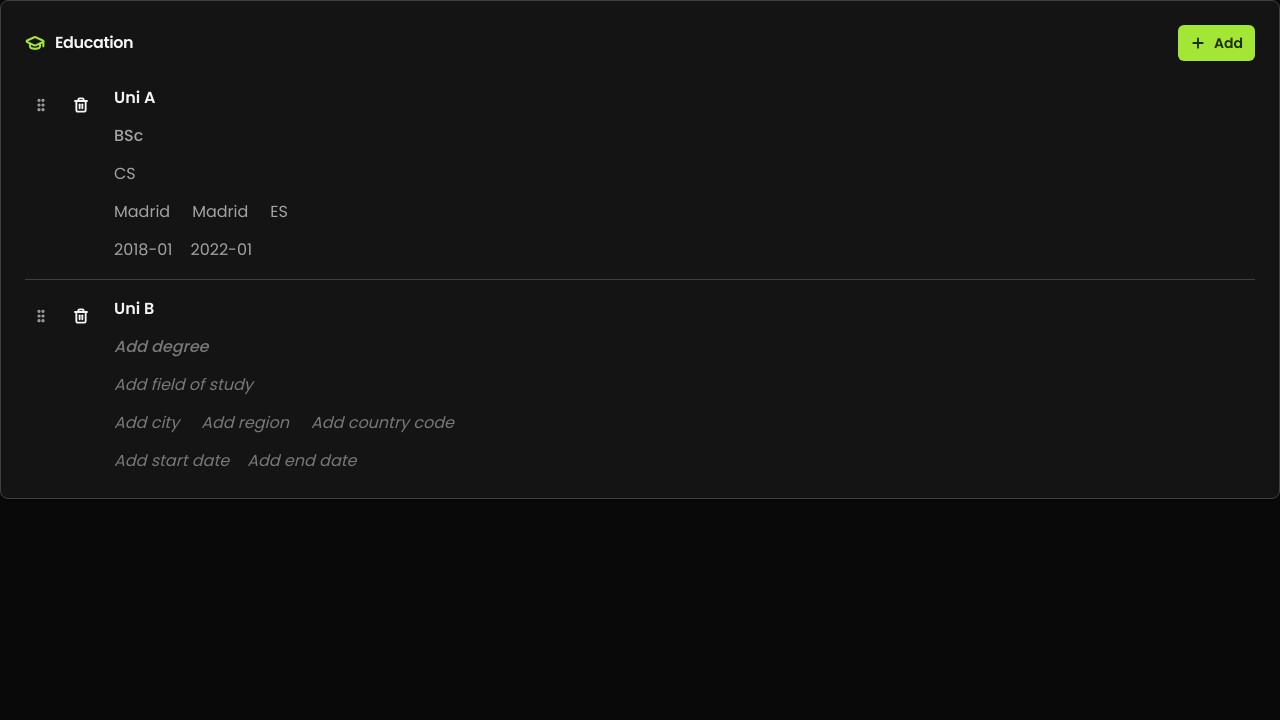
EducationSection › inline edit regression: institution updates immutably
Double-click the button with aria-label "Edit Institution" at [135, 98], box [114, 86, 156, 109]
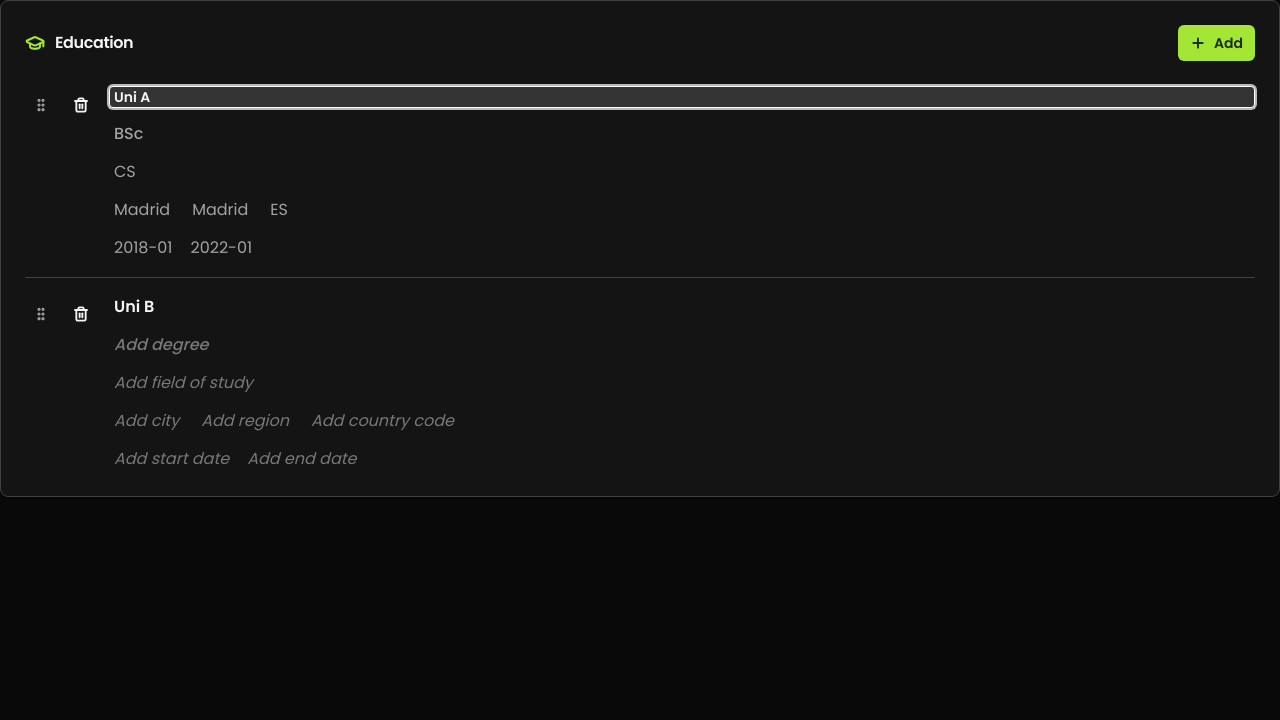
Replace the text in the field named "Institution" with "Updated Uni" at [682, 97], box [109, 86, 1255, 108]
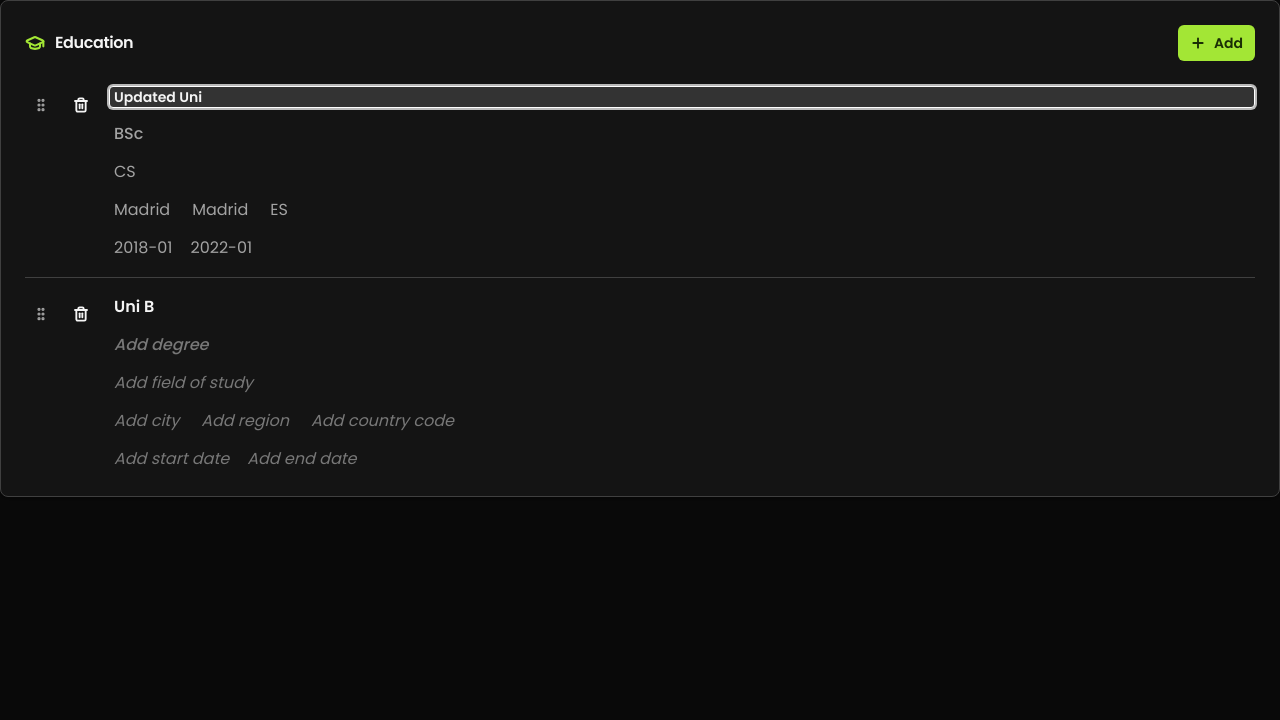
Press Enter
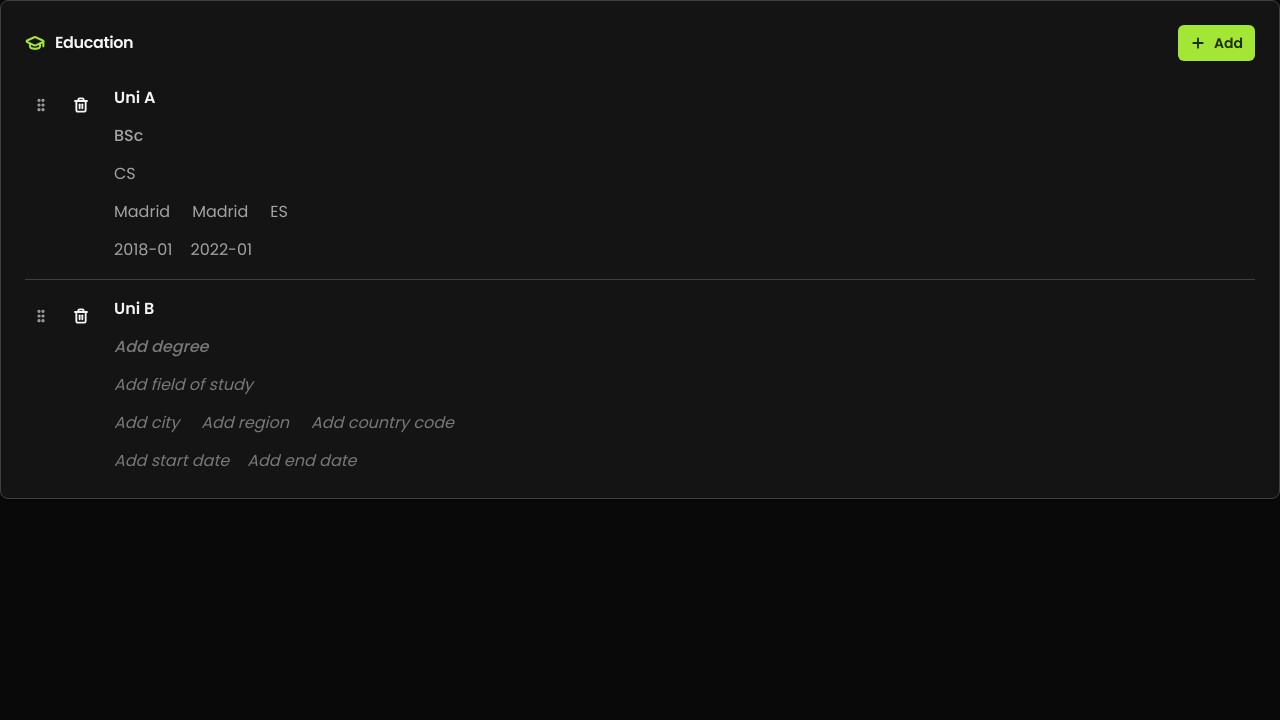
Expected: the button with aria-label "Edit Institution" reads "Uni B", [114, 297, 154, 320]
Expected: the button "Uni A" is shown, [114, 86, 156, 109]
